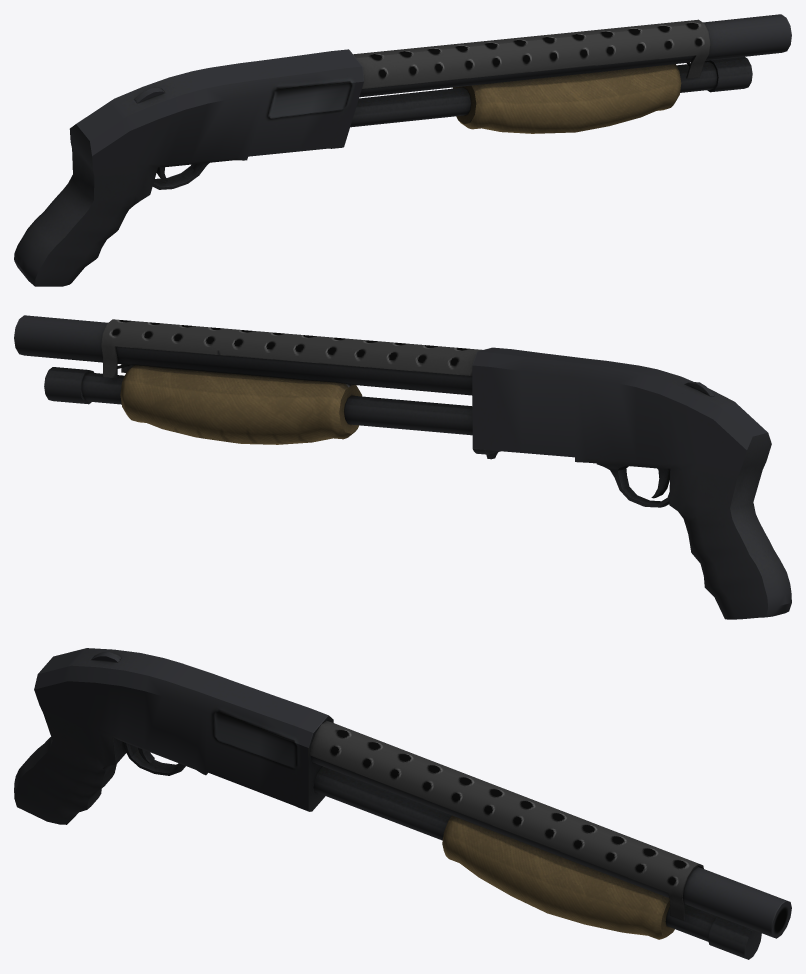
Rendered from shotgun_000031.obj.
The picture shows the model from 3 angles, top to bottom: view 1: azimuth 30°, elevation 25°; view 2: azimuth 150°, elevation 25°; view 3: azimuth 330°, elevation 25°; orthographic projection. The views are drawn at different scales.
Parts seen in each view (by area): view 1: mesh_Cube.001; view 2: mesh_Cube.001; view 3: mesh_Cube.001.
Boxes of the visible parts, x1,y1,x2,y2 form: mesh_Cube.001: (14,14,791,286); mesh_Cube.001: (14,315,791,619); mesh_Cube.001: (14,648,791,959).
Bounding box in the file's own units: 1.94 × 0.4847 × 0.214.
1 material, 1 textured.
